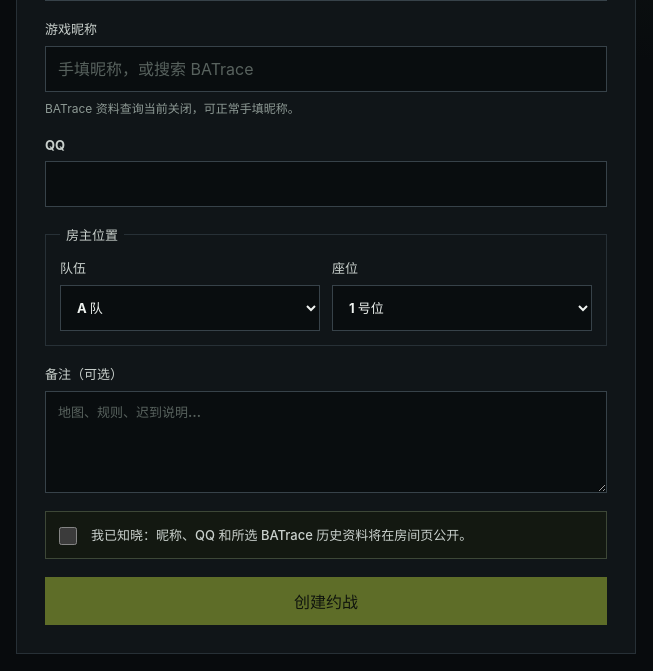
Scenario: CreateRoomPage › requires explicit public-data consent before submission
This screenshot has width=653, height=671.
(page scrolled)
Check: the button "创建约战" is disabled, box [45, 577, 607, 625]
Step 1. Click the checkbox → (68, 536), box [59, 527, 77, 545]
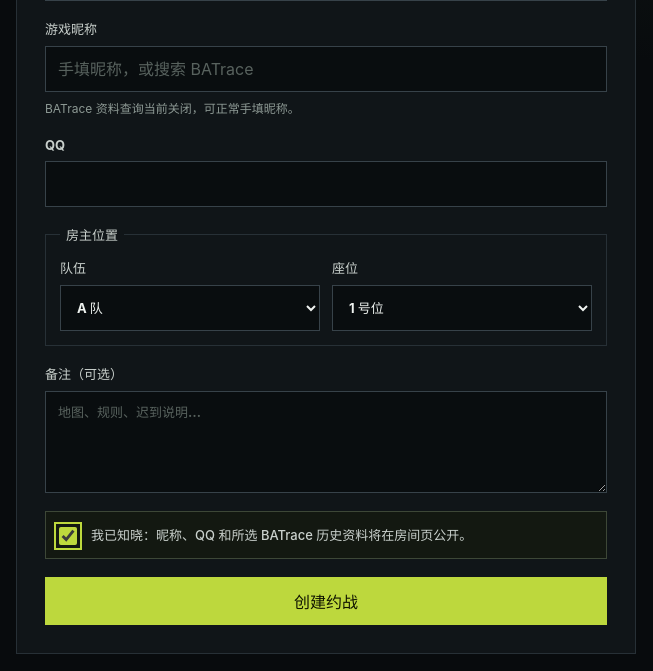
Check: the button "创建约战" is enabled, box [45, 577, 607, 625]
